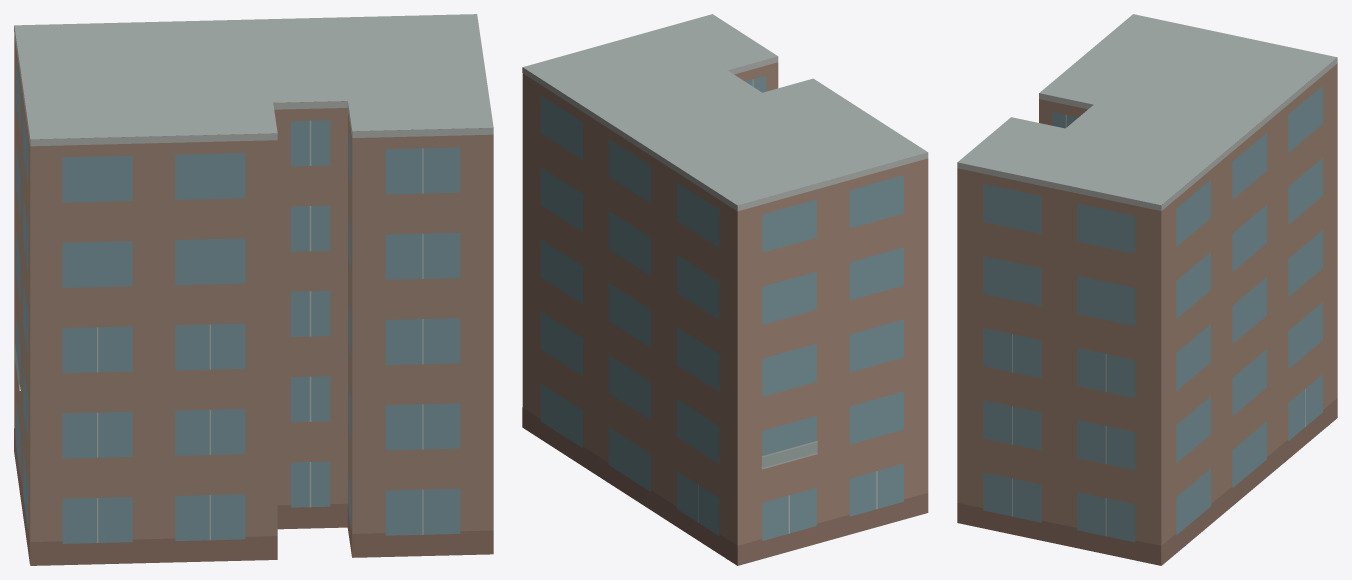
Rendered from survey-upis-32945485.glb.
3 renders of one model, left to right at view 1: azimuth 30°, elevation 25°; view 2: azimuth 150°, elevation 25°; view 3: azimuth 270°, elevation 25°, orthographic. The views are drawn at different scales.
Visible parts, largest first — view 1: survey-upis-32945485.tmp; view 2: survey-upis-32945485.tmp; view 3: survey-upis-32945485.tmp.
Part boxes in pixels (<box>): survey-upis-32945485.tmp: <box>14,14,493,565</box>; survey-upis-32945485.tmp: <box>522,14,928,565</box>; survey-upis-32945485.tmp: <box>957,14,1337,565</box>.
Bounding box in the file's own units: 17.07 × 15 × 14.34.
